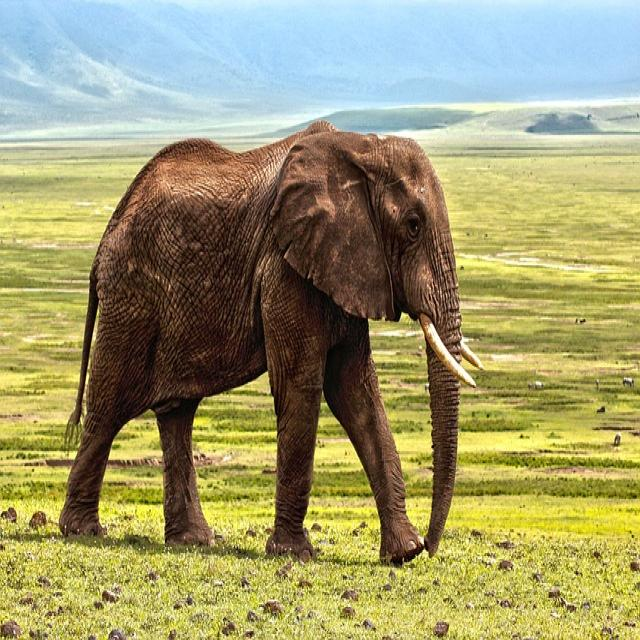Herbivorous: (59, 123, 482, 568)
